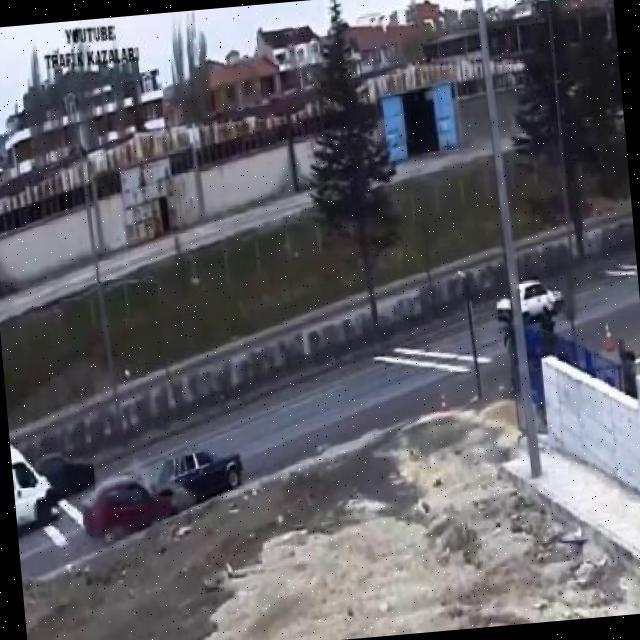accident: (74, 442, 250, 543)
